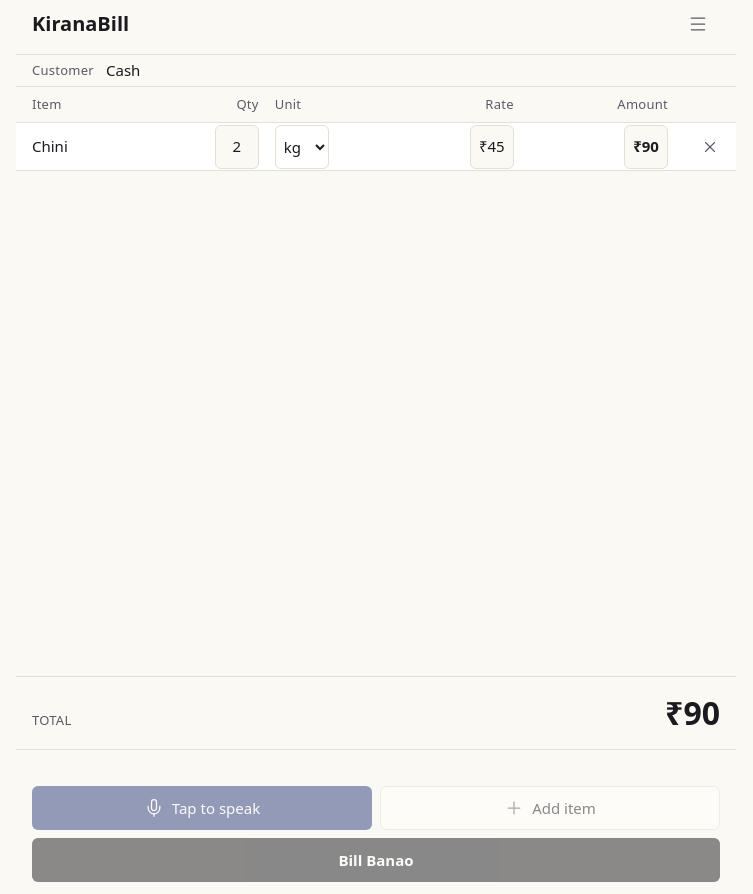
KB-303 - editing a line › above the limit: 'Too large — at most 99,999'
The image size is (753, 894).
Click the button named "Chini quantity": (237, 146) [215,124,259,168]
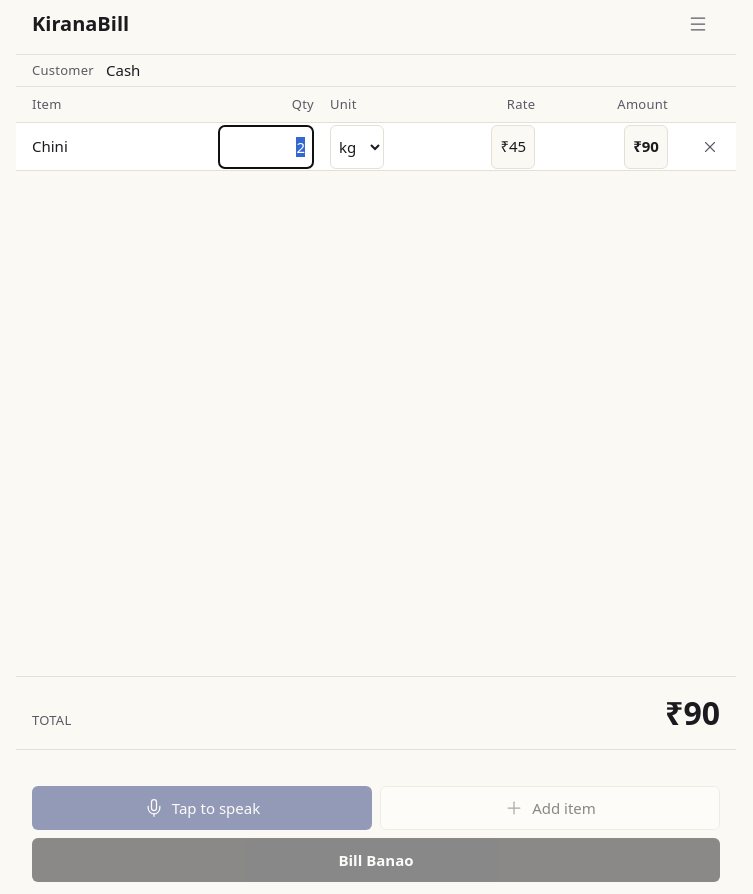
Replace the text in the field named "Chini quantity" with "100000": (266, 146) [218,124,314,168]
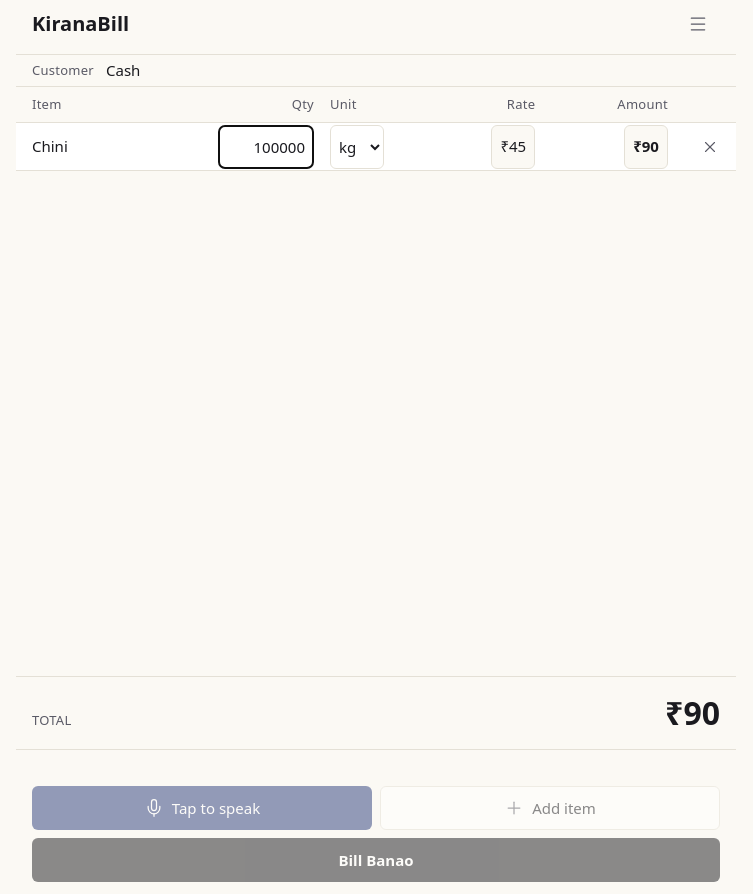
Press Enter in the field named "Chini quantity", box [218,124,314,168]
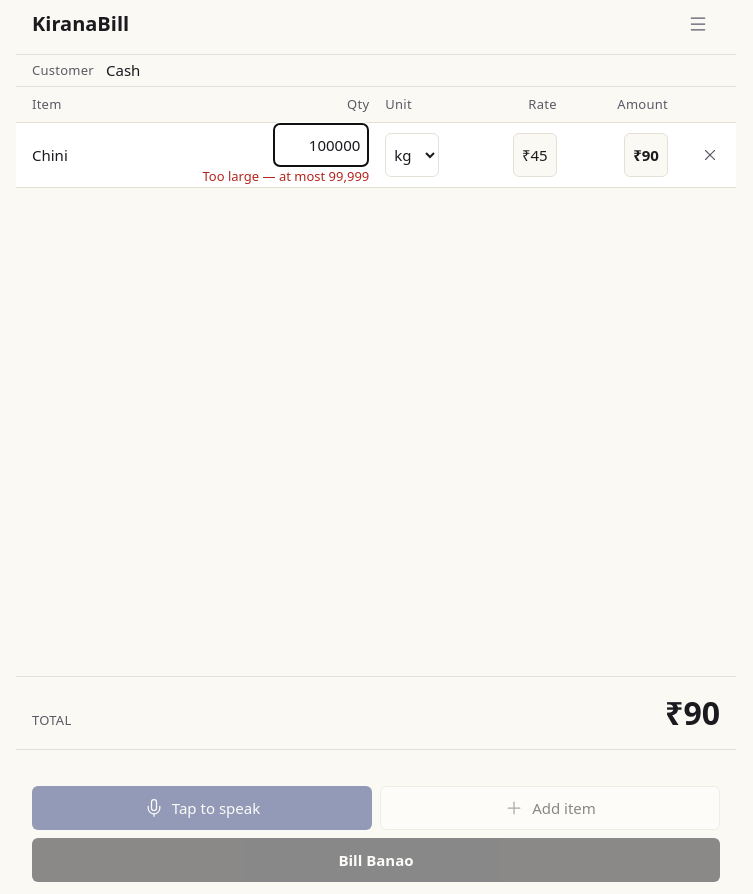
Expected: the message reads "Too large — at most 99,999", [202,167,369,185]
